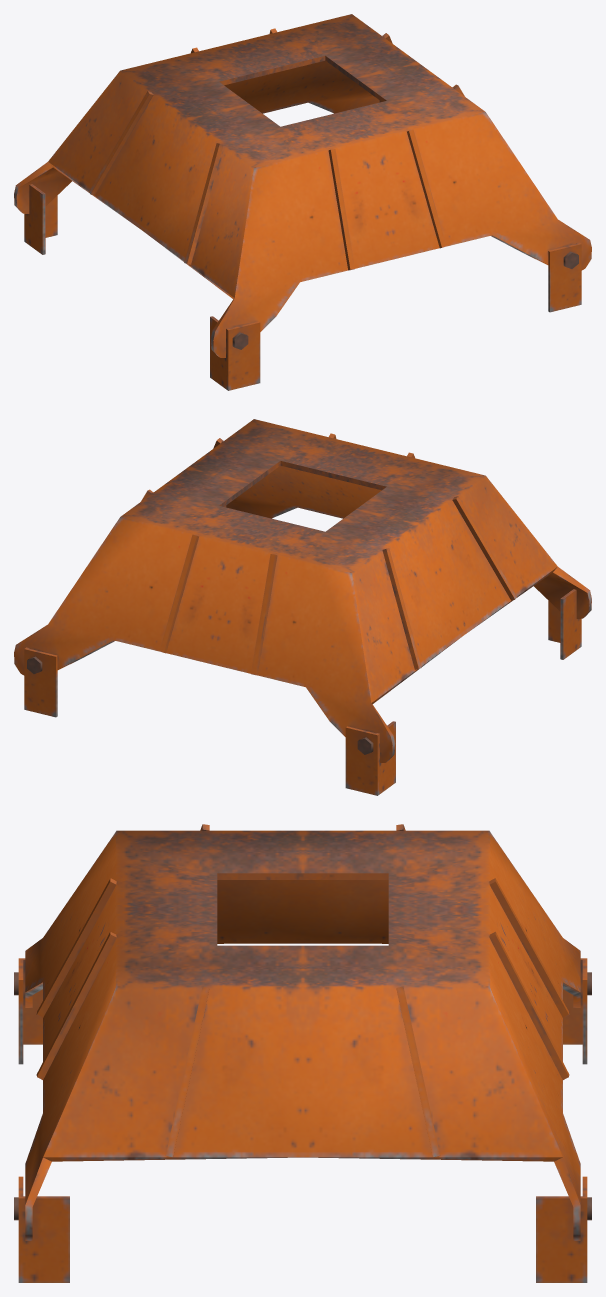
The model's file is CraneLegEnd.003.fbx.
3 renders of one model, top to bottom at view 1: azimuth 30°, elevation 25°; view 2: azimuth 150°, elevation 25°; view 3: azimuth 270°, elevation 25°, orthographic. The views are drawn at different scales.
Visible parts, largest first — view 1: Crane_Leg_End.003_LOD0; view 2: Crane_Leg_End.003_LOD0; view 3: Crane_Leg_End.003_LOD0.
Part boxes in pixels (bbox=[...]): Crane_Leg_End.003_LOD0: bbox=[14, 14, 591, 390]; Crane_Leg_End.003_LOD0: bbox=[14, 419, 591, 795]; Crane_Leg_End.003_LOD0: bbox=[14, 824, 591, 1282].
Size of what is drawn, in the model's own units: 3.27 by 1.52 by 3.1.
